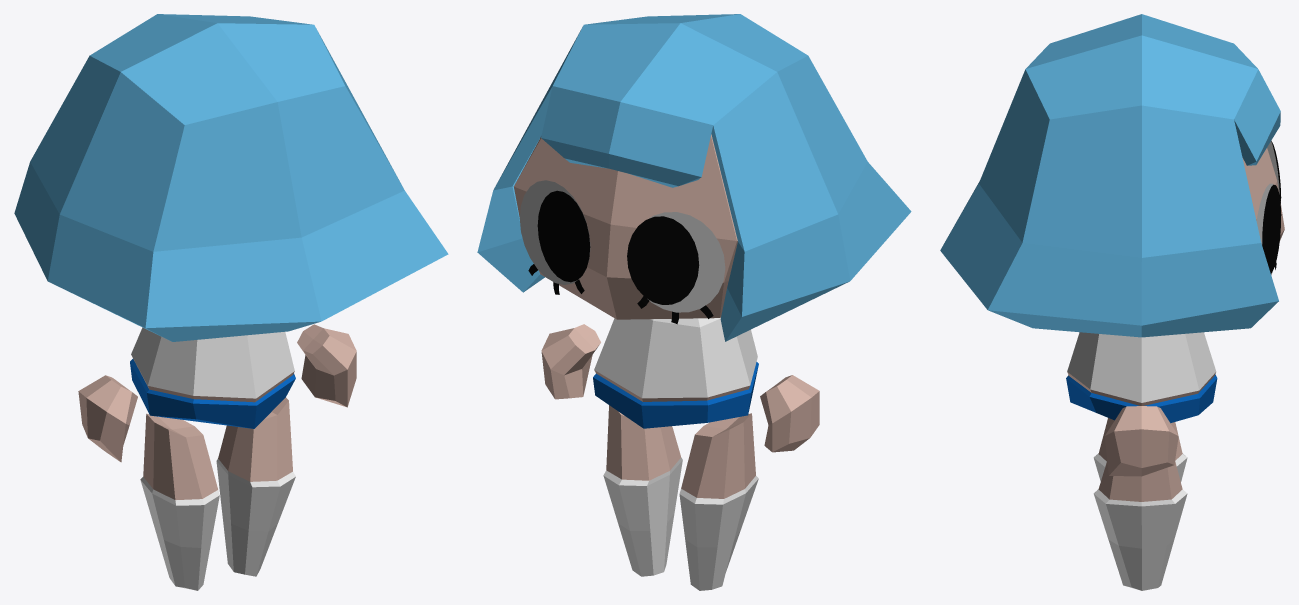
The model's file is Character_a.fbx.
3 renders of one model, left to right at view 1: azimuth 30°, elevation 25°; view 2: azimuth 150°, elevation 25°; view 3: azimuth 270°, elevation 25°, orthographic. The views are drawn at different scales.
Visible parts, largest first — view 1: Character_a_hair, Character_a_body, Character_a_leg_left, Character_a_leg_right, Character_a_hand_right, Character_a_hand_left; view 2: Character_a_hair, Character_a_head, Character_a_body, Character_a_leg_left, Character_a_leg_right, Character_a_eyes_black, Character_a_eyes_white, Character_a_hand_left, Character_a_hand_right; view 3: Character_a_hair, Character_a_body, Character_a_leg_right, Character_a_hand_right, Character_a_eyes_black, Character_a_head, Character_a_leg_left, Character_a_eyes_white.
Boxes of the visible parts, bbox=[...] form: Character_a_hair: bbox=[14, 14, 448, 341]; Character_a_body: bbox=[130, 327, 295, 428]; Character_a_leg_left: bbox=[140, 413, 219, 590]; Character_a_leg_right: bbox=[216, 397, 295, 576]; Character_a_hand_right: bbox=[297, 324, 356, 407]; Character_a_hand_left: bbox=[78, 375, 137, 462]; Character_a_hair: bbox=[477, 14, 911, 341]; Character_a_head: bbox=[513, 134, 737, 319]; Character_a_body: bbox=[593, 317, 758, 428]; Character_a_leg_left: bbox=[679, 413, 758, 590]; Character_a_leg_right: bbox=[603, 405, 682, 576]; Character_a_eyes_black: bbox=[537, 190, 699, 304]; Character_a_eyes_white: bbox=[519, 180, 725, 312]; Character_a_hand_left: bbox=[760, 375, 819, 452]; Character_a_hand_right: bbox=[541, 324, 600, 399]; Character_a_hair: bbox=[940, 14, 1280, 337]; Character_a_body: bbox=[1066, 332, 1217, 423]; Character_a_leg_right: bbox=[1093, 461, 1187, 590]; Character_a_hand_right: bbox=[1104, 406, 1178, 476]; Character_a_eyes_black: bbox=[1262, 141, 1281, 273]; Character_a_head: bbox=[1242, 148, 1284, 241]; Character_a_leg_left: bbox=[1093, 418, 1187, 481]; Character_a_eyes_white: bbox=[1256, 141, 1279, 275].
Size of the model in its own units: 177 by 278 by 161.
